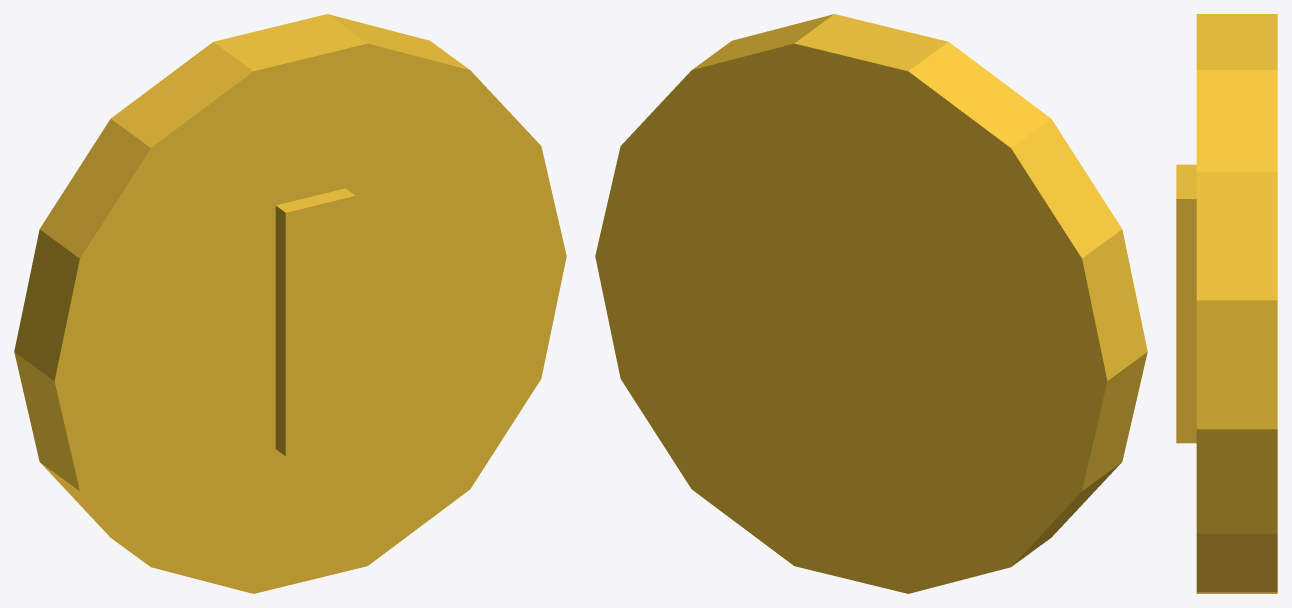
The model's file is coin.obj.
The picture shows the model from 3 angles, left to right: view 1: azimuth 30°, elevation 25°; view 2: azimuth 150°, elevation 25°; view 3: azimuth 270°, elevation 25°; orthographic projection.
Parts seen in each view (by area): view 1: item; view 2: item; view 3: item.
Boxes of the visible parts, x1=… form: item: x1=14, y1=14, x2=566, y2=593; item: x1=595, y1=14, x2=1147, y2=593; item: x1=1176, y1=14, x2=1277, y2=593.
Bounding box in the file's own units: 0.44 × 0.429 × 0.075.
